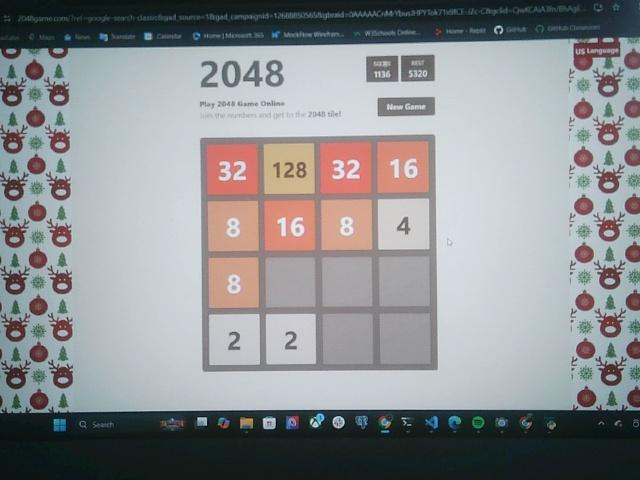board: (200, 137, 437, 370)
tile: (377, 141, 429, 194), (320, 142, 371, 194), (321, 201, 373, 252), (379, 198, 430, 250), (208, 258, 260, 309), (208, 202, 259, 253), (265, 200, 316, 251), (209, 315, 260, 366), (208, 144, 258, 194), (265, 144, 315, 194), (267, 315, 317, 365)
